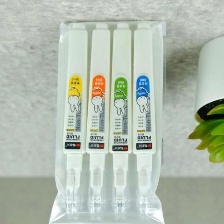correction_fluid: (82, 21, 113, 216), (129, 22, 158, 220), (61, 21, 90, 218), (106, 21, 134, 221)
